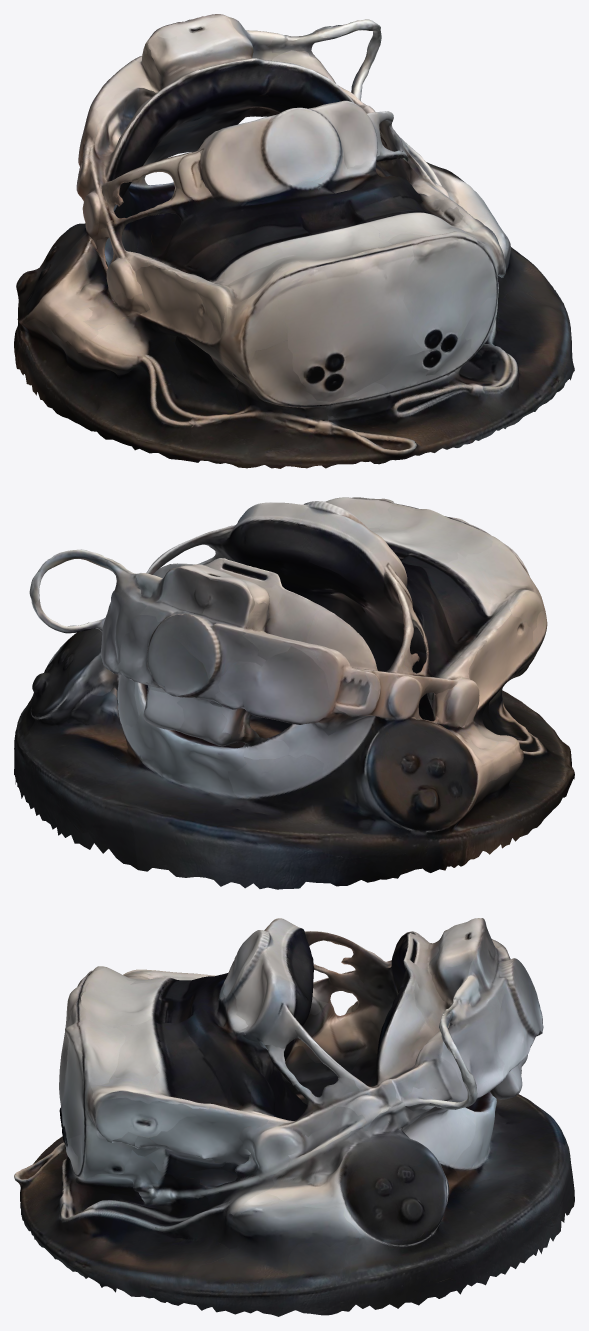
The model's file is meta_quest_3s.glb.
The picture shows the model from 3 angles, top to bottom: view 1: azimuth 30°, elevation 25°; view 2: azimuth 150°, elevation 25°; view 3: azimuth 270°, elevation 25°; orthographic projection.
Visible parts, largest first — view 1: MetaQuest3S_0; view 2: MetaQuest3S_0; view 3: MetaQuest3S_0.
Boxes of the visible parts, x1,y1,x2,y2 form: MetaQuest3S_0: (14,14,574,468); MetaQuest3S_0: (14,497,574,889); MetaQuest3S_0: (14,918,574,1316).
Bounding box in the file's own units: 0.8932 × 0.4744 × 0.9081.
1 material, 1 textured.
